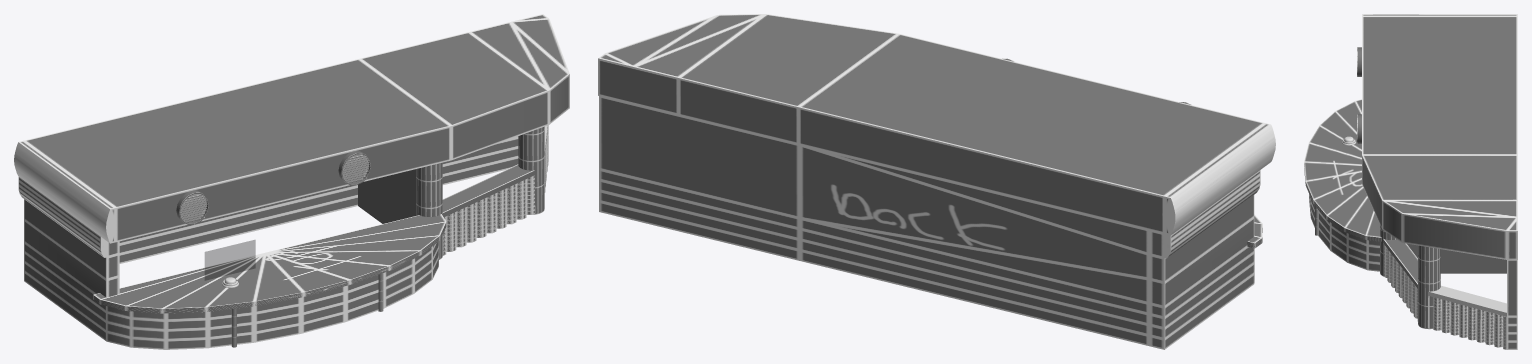
Rendered from Shop2.fbx.
3 views of the same model, side by side, from view 1: azimuth 30°, elevation 25°; view 2: azimuth 150°, elevation 25°; view 3: azimuth 270°, elevation 25° (orthographic). The views are drawn at different scales.
Parts seen in each view (by area): view 1: Roof, Main, Table, Sheet_Metal, SideWall, Counter2, Pillar, screen, Pillar_2; view 2: Roof, Main; view 3: Roof, Table, Main, Sheet_Metal2, Pillar, SideWall, Sheet_Metal, Counter3, Counter2, Pillar_2.
Boxes of the visible parts, x1=… form: Roof: x1=14, y1=14, x2=569, y2=243; Main: x1=18, y1=136, x2=518, y2=349; Table: x1=93, y1=214, x2=446, y2=313; Sheet_Metal: x1=442, y1=175, x2=535, y2=255; SideWall: x1=358, y1=169, x2=416, y2=223; Counter2: x1=442, y1=164, x2=534, y2=217; Pillar: x1=518, y1=126, x2=544, y2=214; screen: x1=205, y1=240, x2=255, y2=280; Pillar_2: x1=416, y1=162, x2=442, y2=259; Roof: x1=598, y1=14, x2=1275, y2=235; Main: x1=599, y1=96, x2=1260, y2=349; Roof: x1=1362, y1=14, x2=1517, y2=259; Table: x1=1304, y1=99, x2=1381, y2=241; Main: x1=1309, y1=194, x2=1517, y2=349; Sheet_Metal2: x1=1427, y1=295, x2=1506, y2=349; Pillar: x1=1418, y1=245, x2=1440, y2=329; SideWall: x1=1407, y1=243, x2=1506, y2=273; Sheet_Metal: x1=1384, y1=244, x2=1417, y2=321; Counter3: x1=1428, y1=285, x2=1506, y2=316; Counter2: x1=1383, y1=239, x2=1417, y2=288; Pillar_2: x1=1380, y1=225, x2=1396, y2=276.
Size of the model in its own units: 1414 by 362 by 585.
Materials: 11 (10 with a texture image).
